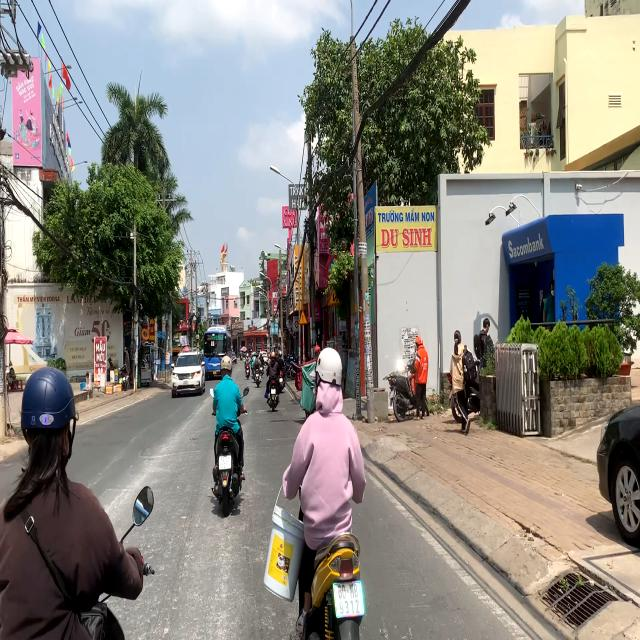W.233: (298, 308, 308, 326)
